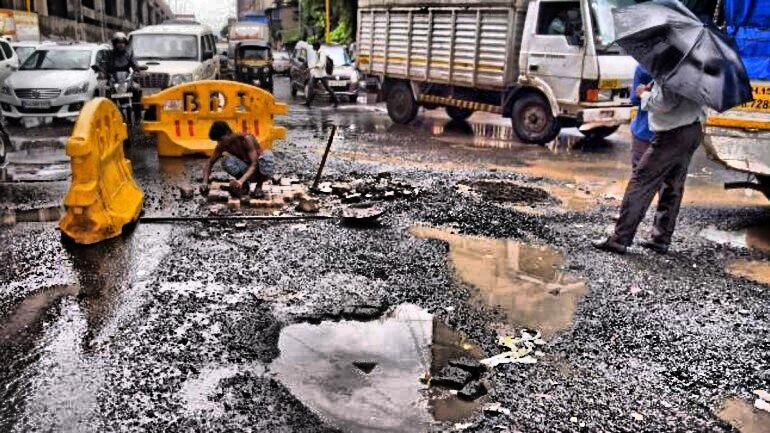pothole: (270, 296, 500, 433), (421, 219, 594, 341), (698, 216, 770, 255), (714, 391, 770, 433), (722, 260, 770, 281)
